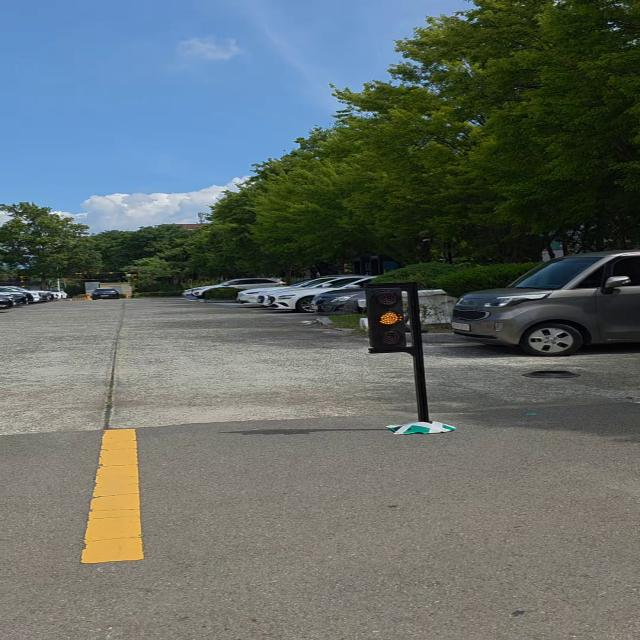yellow: (364, 284, 410, 352)
